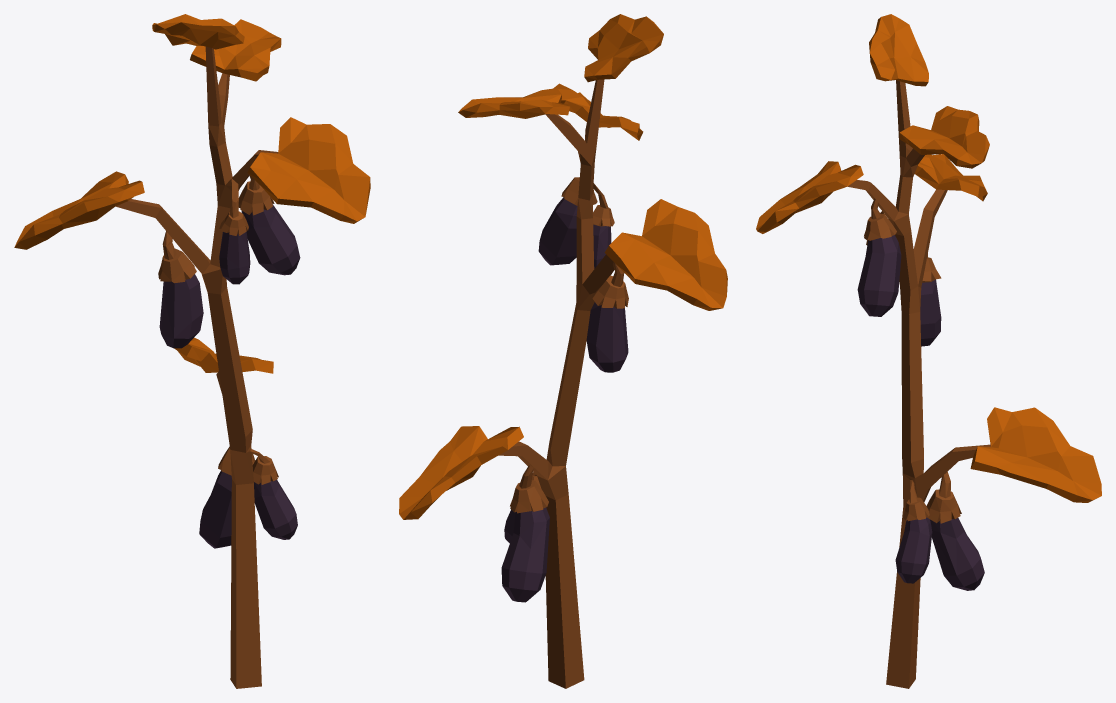
The model's file is Eggplant_M_Died.fbx.
3 renders of one model, left to right at view 1: azimuth 30°, elevation 25°; view 2: azimuth 150°, elevation 25°; view 3: azimuth 270°, elevation 25°, orthographic. The views are drawn at different scales.
Parts seen in each view (by area): view 1: Eggplant_M_Died, Eggplant_Young_Died_4, Eggplant_Young_Died_2, Eggplant_Young_Died_1, Eggplant_Young_Died_5, Eggplant_Young_Died_3; view 2: Eggplant_M_Died, Eggplant_Young_Died_5, Eggplant_Young_Died_4, Eggplant_Young_Died_2, Eggplant_Young_Died_3; view 3: Eggplant_M_Died, Eggplant_Young_Died_5, Eggplant_Young_Died_2, Eggplant_Young_Died_1, Eggplant_Young_Died_4.
Boxes of the visible parts, x1,y1,x2,y2 form: Eggplant_M_Died: (14,14,370,688); Eggplant_Young_Died_4: (158,248,203,348); Eggplant_Young_Died_2: (238,181,300,275); Eggplant_Young_Died_1: (252,456,297,539); Eggplant_Young_Died_5: (199,446,255,548); Eggplant_Young_Died_3: (219,211,250,284); Eggplant_M_Died: (399,14,727,688); Eggplant_Young_Died_5: (501,480,549,602); Eggplant_Young_Died_4: (586,275,628,372); Eggplant_Young_Died_2: (538,177,597,265); Eggplant_Young_Died_3: (593,205,614,268); Eggplant_M_Died: (756,14,1101,688); Eggplant_Young_Died_5: (926,489,984,590); Eggplant_Young_Died_2: (857,213,901,316); Eggplant_Young_Died_1: (895,497,932,583); Eggplant_Young_Died_4: (920,257,941,346).
Size of the model in its own units: 25.19 by 61.53 by 30.43.
